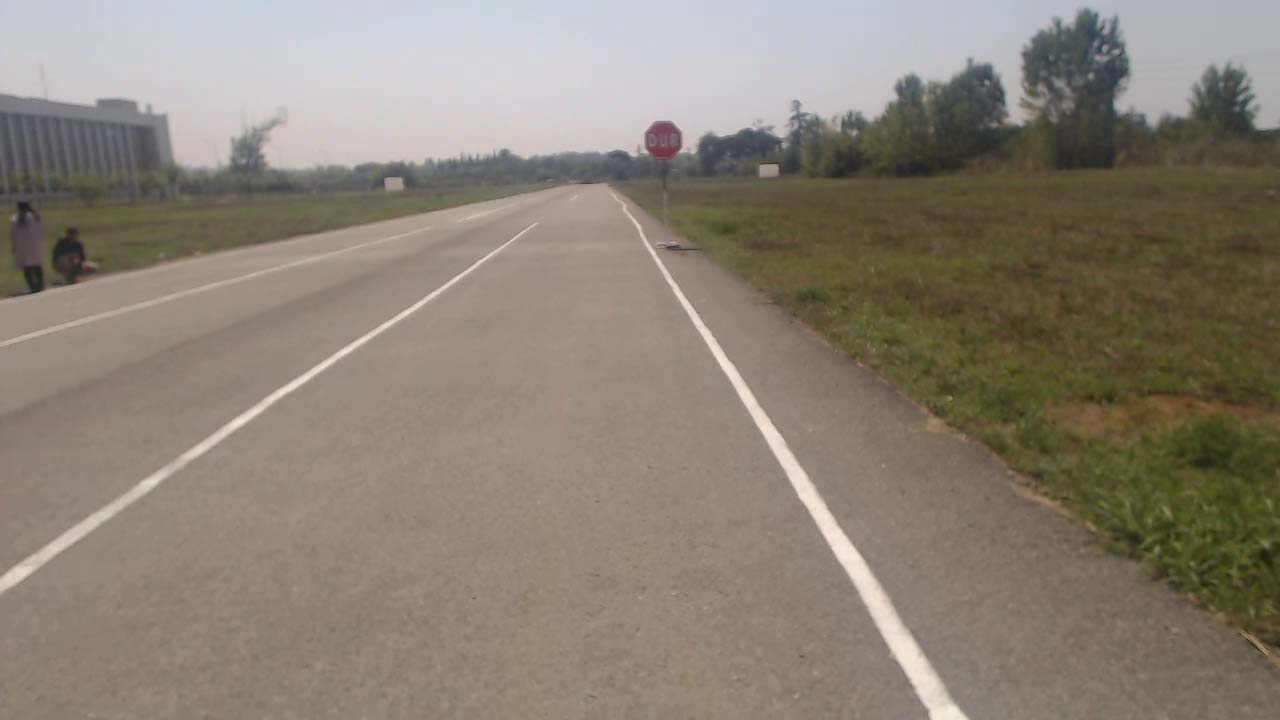arac_dur_isareti: (599, 78, 751, 266), (622, 99, 699, 211)
